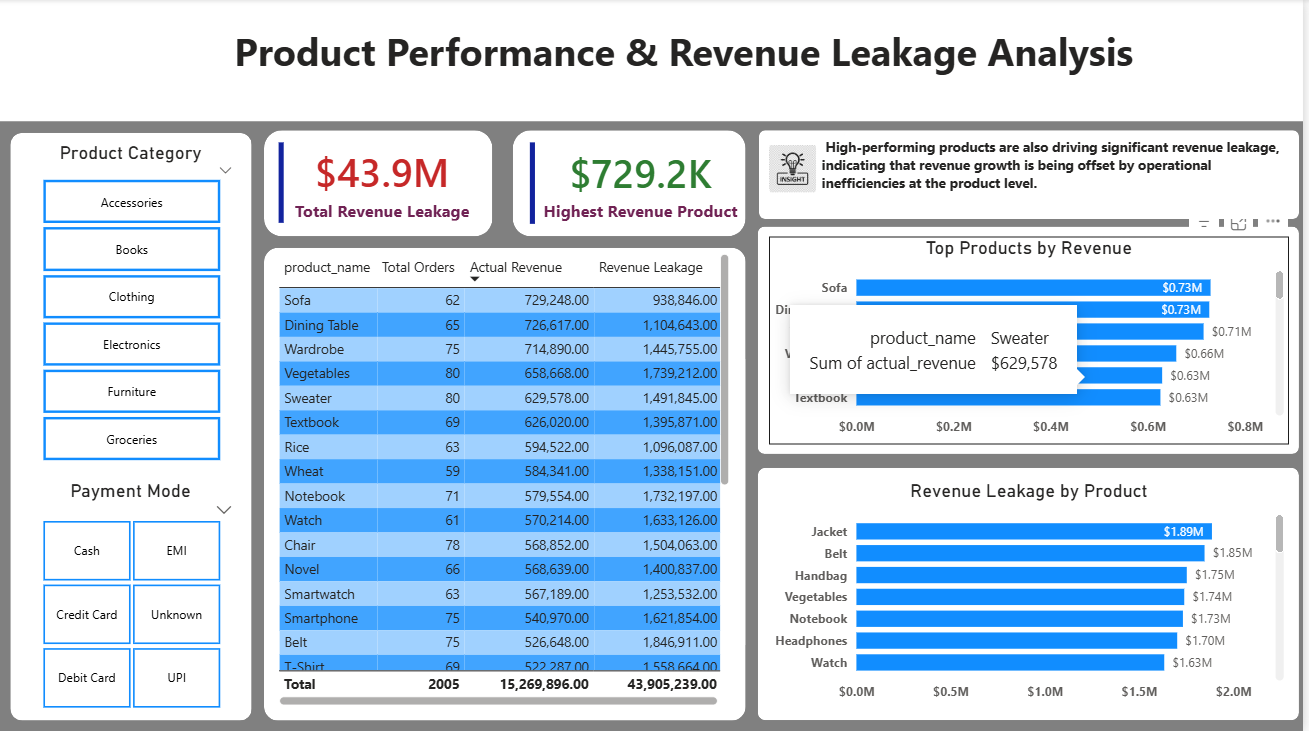

This screenshot's page, from the dashboard's own definition file:
{"tool":"powerbi","page":{"name":"Product Analysis","canvas":[1280,720],"ordinal":1},"visuals":[{"type":"shape","title":"Revenue & Order Performance Overview","box":[0,0,1280,120],"z":0},{"type":"textbox","box":[147.1,21.4,1050,77.1],"z":1000},{"type":"shape","title":"Revenue & Order Performance Overview","box":[11.4,131.4,237.1,577.1],"z":2000},{"type":"shape","title":"Revenue & Order Performance Overview","box":[504.3,128.6,228.6,104.3],"z":3000},{"type":"cardVisual","fields":{"Data":["sales_clean.Top Product Revenue"]},"box":[504.3,124.3,251.4,114.3],"z":4000},{"type":"shape","title":"Revenue & Order Performance Overview","box":[260,128.6,224.3,104.3],"z":5000},{"type":"cardVisual","fields":{"Data":["sales_clean.Total Leakage"]},"box":[257.5,123.8,237.5,113.8],"z":6000},{"type":"shape","title":"Revenue & Order Performance Overview","box":[744.8,223.3,531.3,223.3],"z":7000},{"type":"clusteredBarChart","title":"Top Products by Revenue","fields":{"Category":["sales_clean.product_name"],"Y":["Sum(sales_clean.actual_revenue)"]},"box":[755.8,233.1,510.4,204.9],"z":8000},{"type":"shape","title":"Revenue & Order Performance Overview","box":[744.8,460.1,531.3,247.9],"z":9000},{"type":"clusteredBarChart","title":"Revenue Leakage by Product","fields":{"Category":["sales_clean.product_name"],"Y":["sales_clean.Revenue Leakage"]},"box":[755.8,472.4,510.4,225.8],"z":10000},{"type":"shape","title":"Revenue & Order Performance Overview","box":[260,244.3,472.9,464.3],"z":11000},{"type":"tableEx","fields":{"Values":["sales_clean.product_name","sales_clean.Total Orders","sales_clean.Actual Revenue","sales_clean.Revenue Leakage"]},"box":[268.6,245.7,452.9,452.9],"z":12000},{"type":"slicer","title":"Product Category","fields":{"Values":["sales_clean.product_category"]},"box":[17.1,140,224.3,320],"z":13000},{"type":"shape","title":"Revenue & Order Performance Overview","box":[746,128.8,530.1,87.1],"z":14000},{"type":"slicer","title":"Payment Mode","fields":{"Values":["sales_clean.payment_mode"]},"box":[17.1,472.9,224.3,230],"z":15000},{"type":"image","box":[755.8,133.7,46.6,65],"z":16000},{"type":"textbox","box":[802.5,131.3,463.8,76.1],"z":16001}]}

Visuals, with their boxes in screenshot pixels (x1, y1, x2, y2), scaled from the page's 1280x720 canvas onto the 1309x731 screenshot:
"Revenue & Order Performance Overview" shape: bbox(0, 0, 1308, 122)
textbox: bbox(150, 22, 1224, 100)
"Revenue & Order Performance Overview" shape: bbox(12, 133, 254, 719)
"Revenue & Order Performance Overview" shape: bbox(516, 131, 750, 236)
cardVisual - sales_clean.Top Product Revenue: bbox(516, 126, 773, 242)
"Revenue & Order Performance Overview" shape: bbox(266, 131, 495, 236)
cardVisual - sales_clean.Total Leakage: bbox(263, 126, 506, 241)
"Revenue & Order Performance Overview" shape: bbox(762, 227, 1305, 453)
"Top Products by Revenue" clusteredBarChart: bbox(773, 237, 1295, 445)
"Revenue & Order Performance Overview" shape: bbox(762, 467, 1305, 719)
"Revenue Leakage by Product" clusteredBarChart: bbox(773, 480, 1295, 709)
"Revenue & Order Performance Overview" shape: bbox(266, 248, 750, 719)
tableEx - sales_clean.product_name x sales_clean.Total Orders: bbox(275, 249, 738, 709)
"Product Category" slicer: bbox(17, 142, 247, 467)
"Revenue & Order Performance Overview" shape: bbox(763, 131, 1305, 219)
"Payment Mode" slicer: bbox(17, 480, 247, 714)
image: bbox(773, 136, 821, 202)
textbox: bbox(821, 133, 1295, 211)
